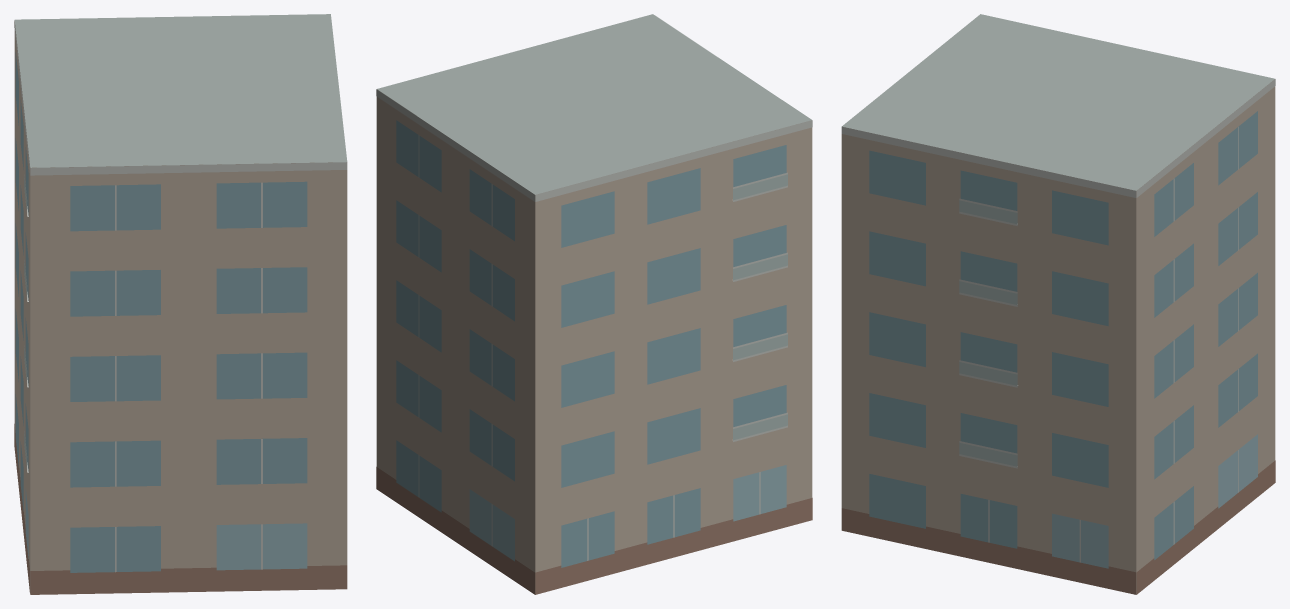
The model's file is survey-upis-32971301.glb.
3 renders of one model, left to right at view 1: azimuth 30°, elevation 25°; view 2: azimuth 150°, elevation 25°; view 3: azimuth 270°, elevation 25°, orthographic. The views are drawn at different scales.
Visible parts, largest first — view 1: survey-upis-32971301.tmp; view 2: survey-upis-32971301.tmp; view 3: survey-upis-32971301.tmp.
Boxes of the visible parts, <box> form: survey-upis-32971301.tmp: <box>14,14,347,594</box>; survey-upis-32971301.tmp: <box>376,14,812,594</box>; survey-upis-32971301.tmp: <box>841,14,1275,594</box>.
Bounding box in the file's own units: 12.62 × 13.44 × 13.09.
